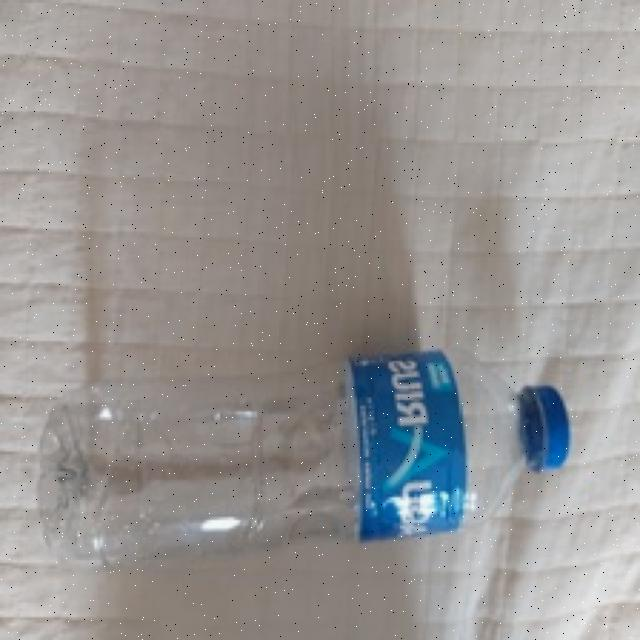bottle: (19, 358, 578, 564)
cap: (518, 378, 574, 478)
label: (348, 332, 476, 548)
